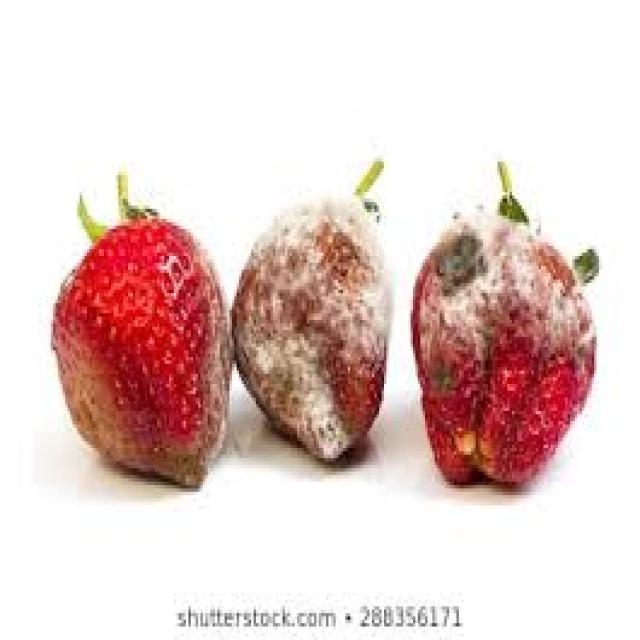organic waste: (411, 155, 594, 488), (48, 168, 232, 492), (230, 155, 392, 465)
